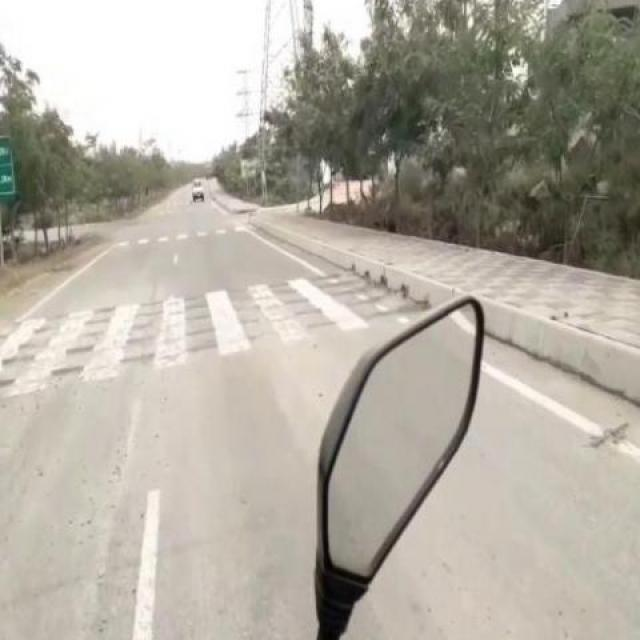Pothole: (586, 418, 629, 452)
Speed Bump: (0, 318, 340, 403), (1, 290, 338, 374), (0, 286, 357, 344), (0, 266, 351, 322)
